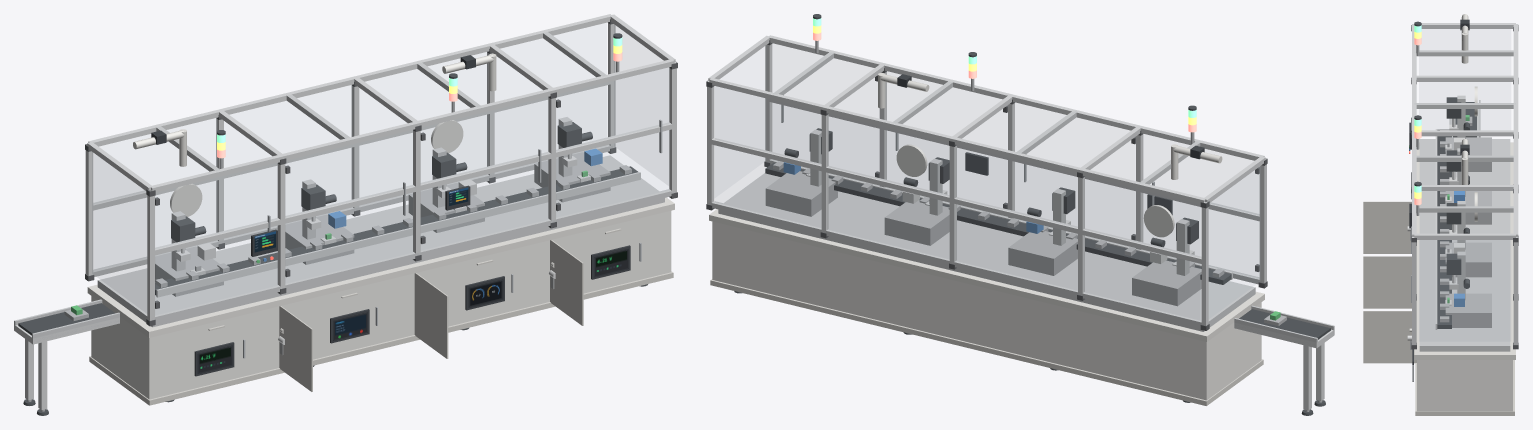
The model's file is hanwha_momentum_battery_assembly_line.glb.
The picture shows the model from 3 angles, left to right: view 1: azimuth 30°, elevation 25°; view 2: azimuth 150°, elevation 25°; view 3: azimuth 270°, elevation 25°; orthographic projection. The views are drawn at different scales.
Parts seen in each view (by area): view 1: Hanwha_Momentum_Battery_Assembly_Line; view 2: Hanwha_Momentum_Battery_Assembly_Line; view 3: Hanwha_Momentum_Battery_Assembly_Line.
Part boxes in pixels (box(x1,y1,x2,y2)): Hanwha_Momentum_Battery_Assembly_Line: box(14, 14, 677, 415); Hanwha_Momentum_Battery_Assembly_Line: box(706, 14, 1334, 415); Hanwha_Momentum_Battery_Assembly_Line: box(1363, 14, 1518, 415).
Size of the model in its own units: 6.43 by 2.56 by 1.68.
Materials: 31 (6 with a texture image).
